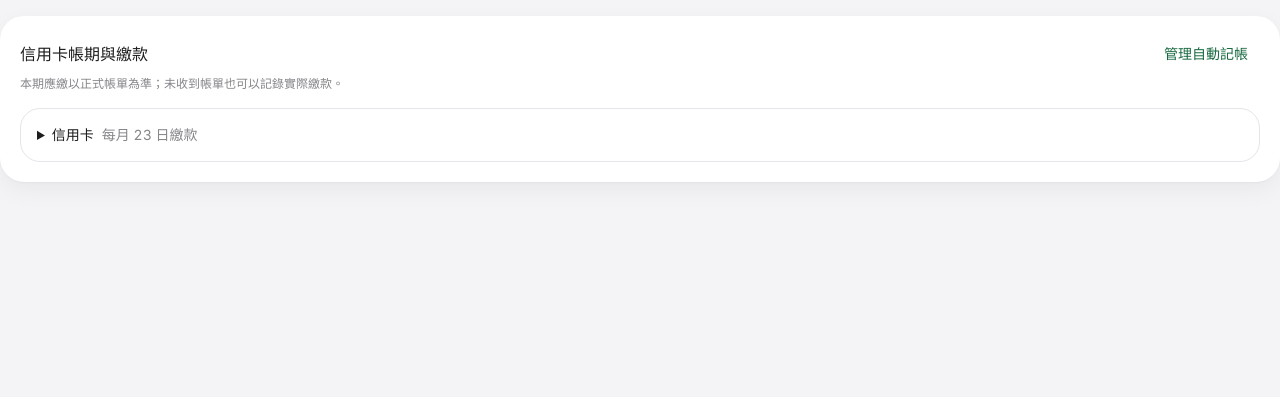
Scenario: shows recorded payments against debt even without a formal statement
Click the text "信用卡" at point(73, 134), box [52,126,94,143]
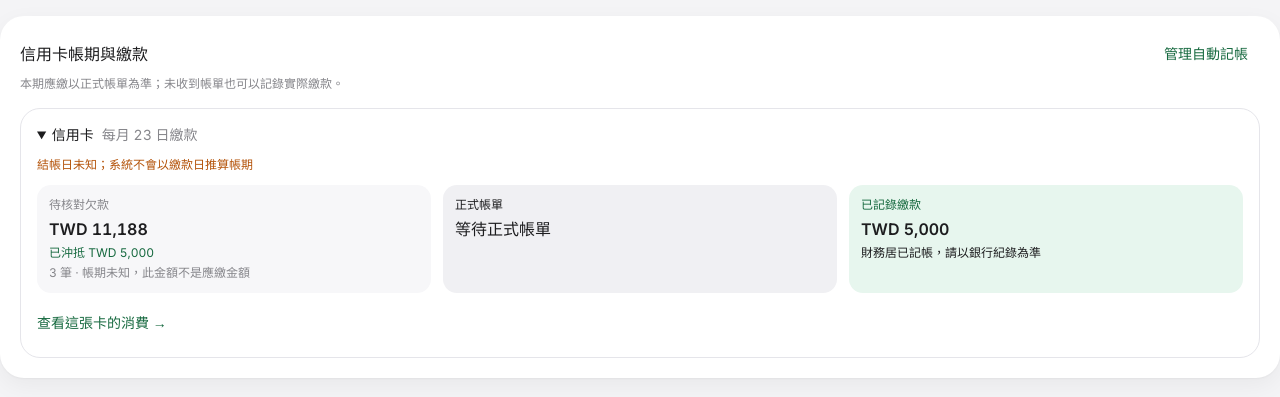
Now the text "待核對欠款" is shown, box [49,197,109,212]
Now the text "TWD 11,188" is shown, box [49,219,148,239]
Now the text "已沖抵 TWD 5,000" is shown, box [49,245,154,260]
